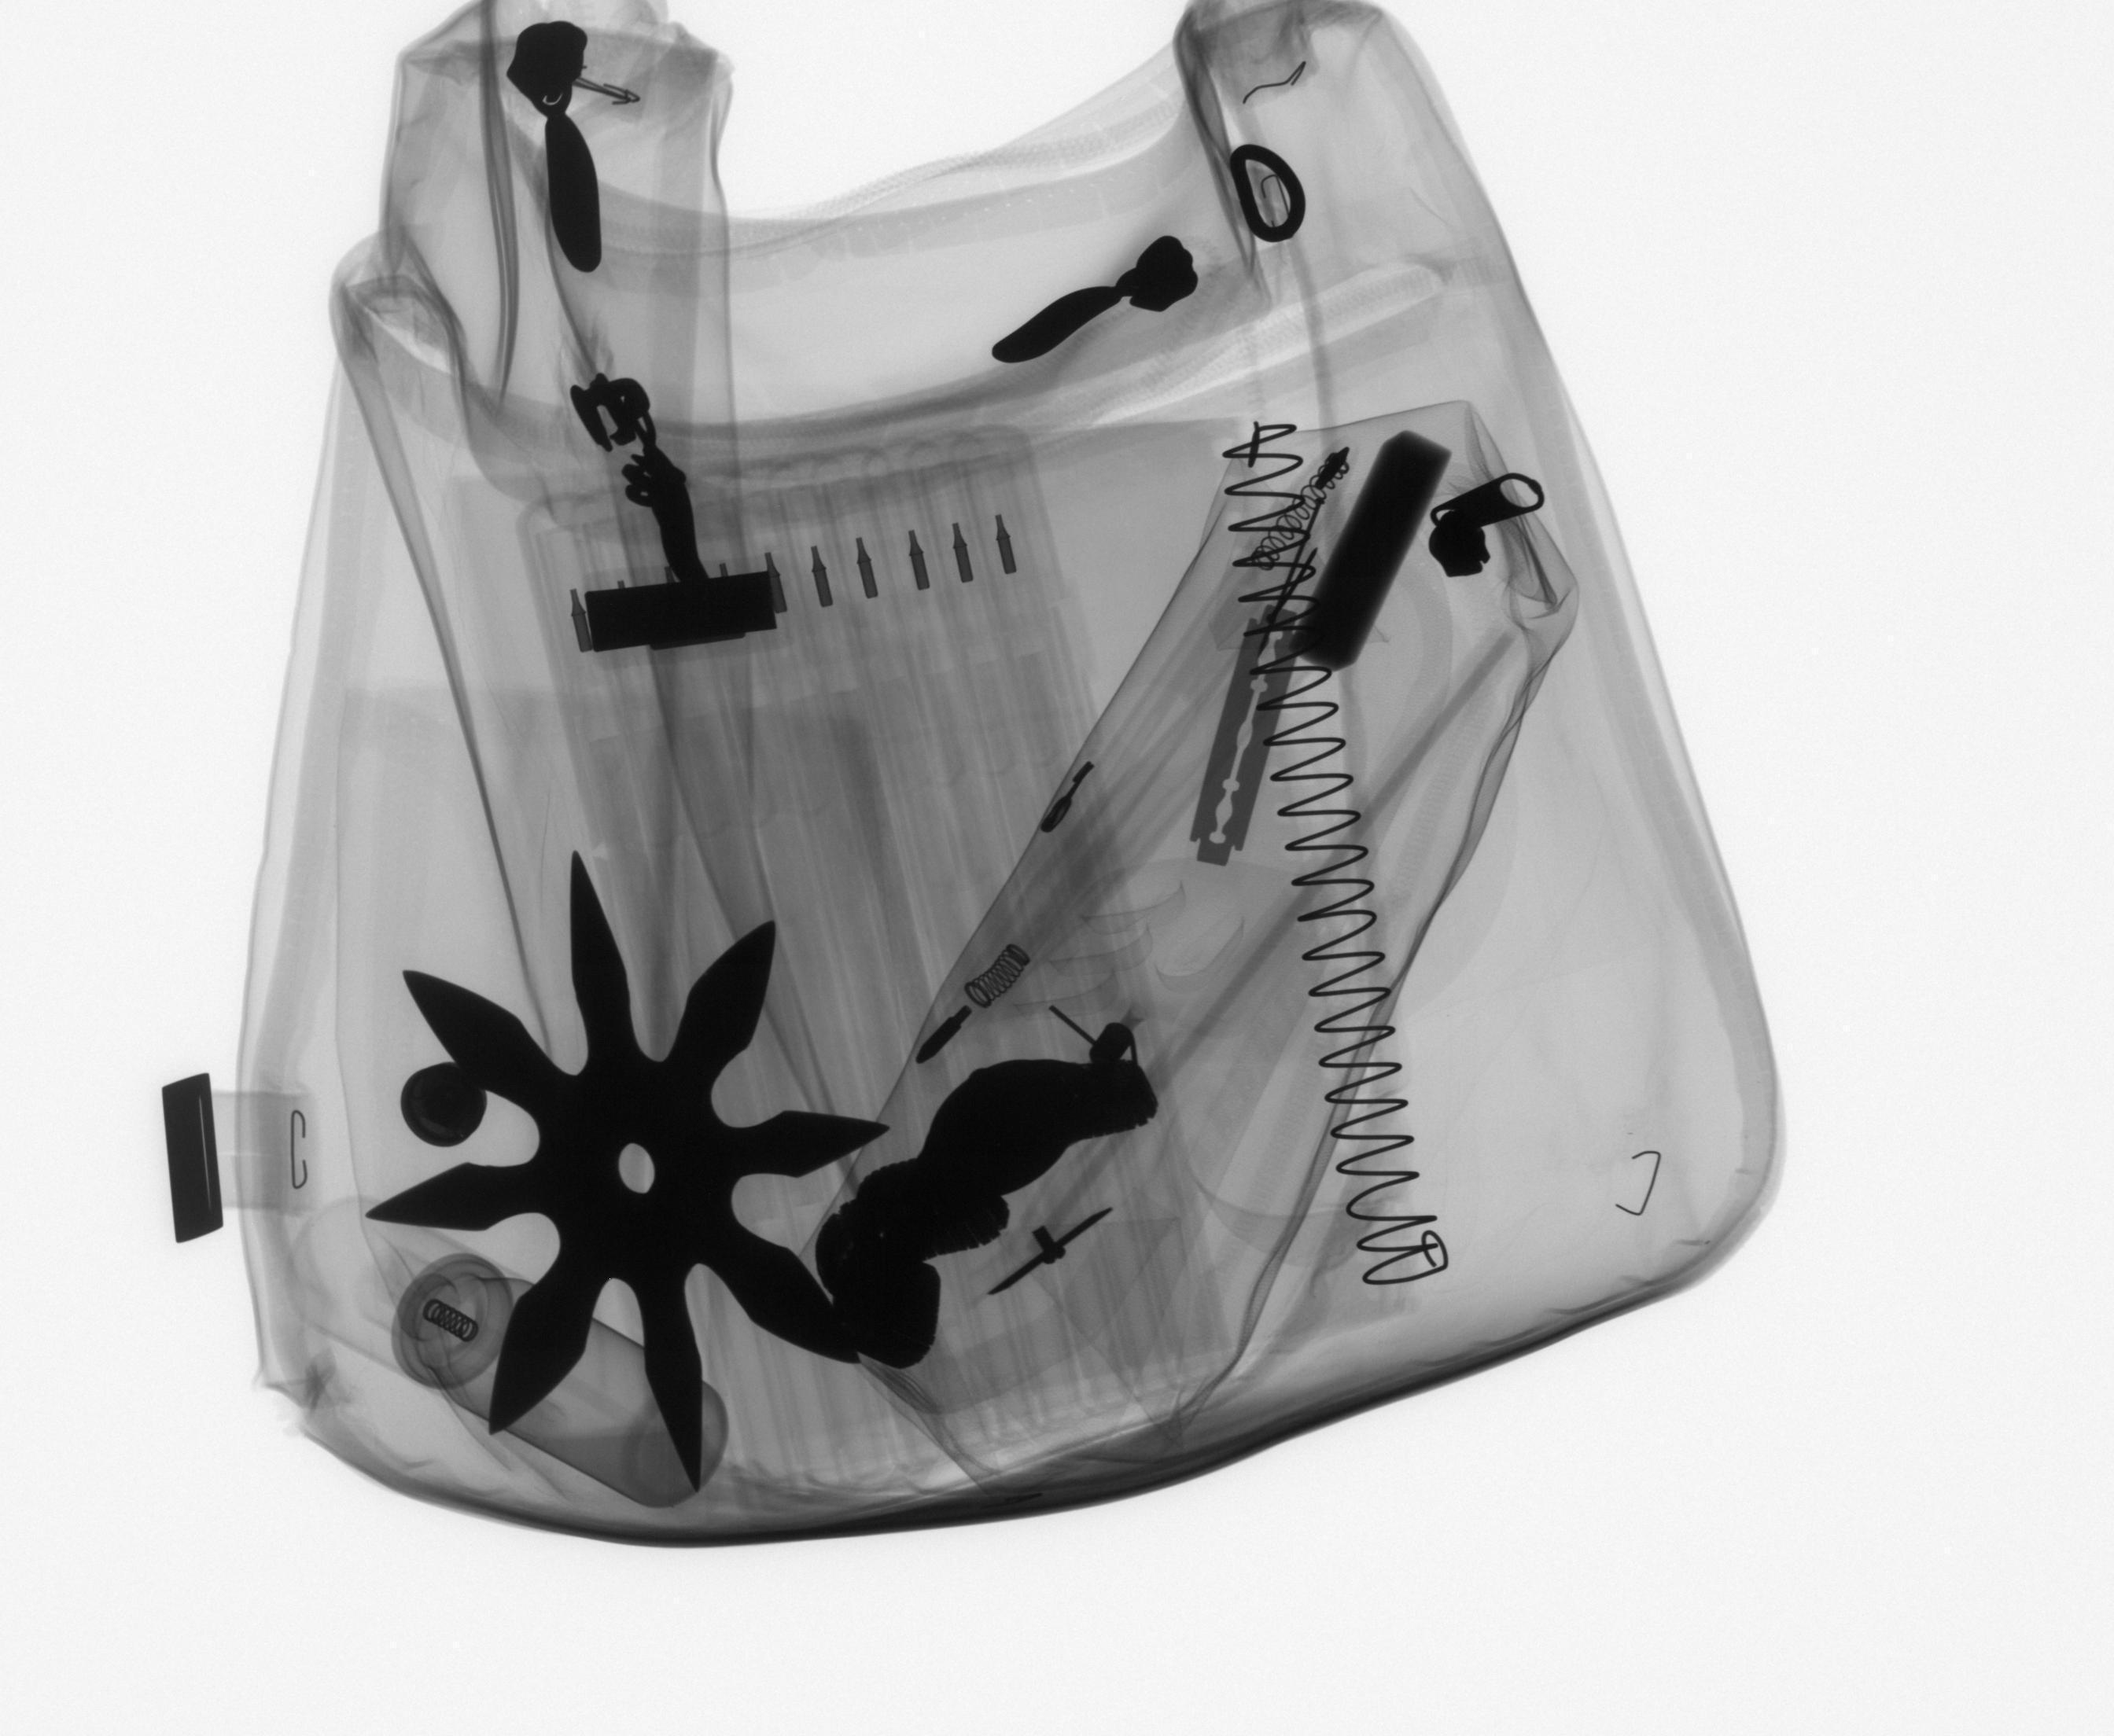RazorBlade: (1185, 601, 1309, 870)
Shuriken: (355, 841, 896, 1499)
